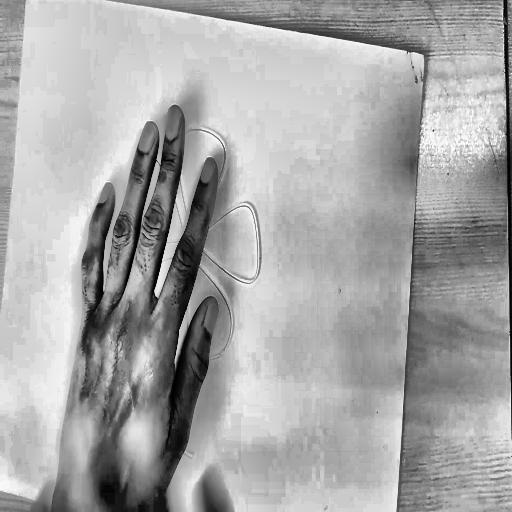flower: (82, 99, 294, 487)
top_right: (420, 50, 429, 64)
